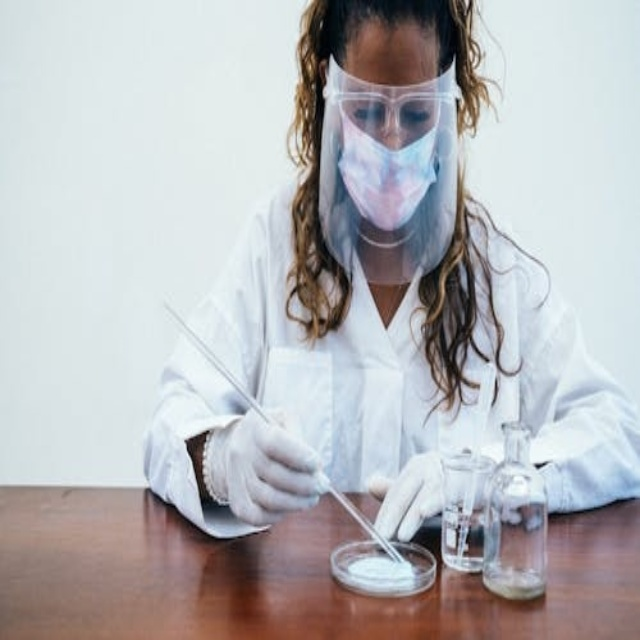Gafas: (327, 62, 457, 139)
Guantes: (205, 390, 315, 527), (367, 440, 442, 550)
Mascara: (332, 79, 448, 233)
